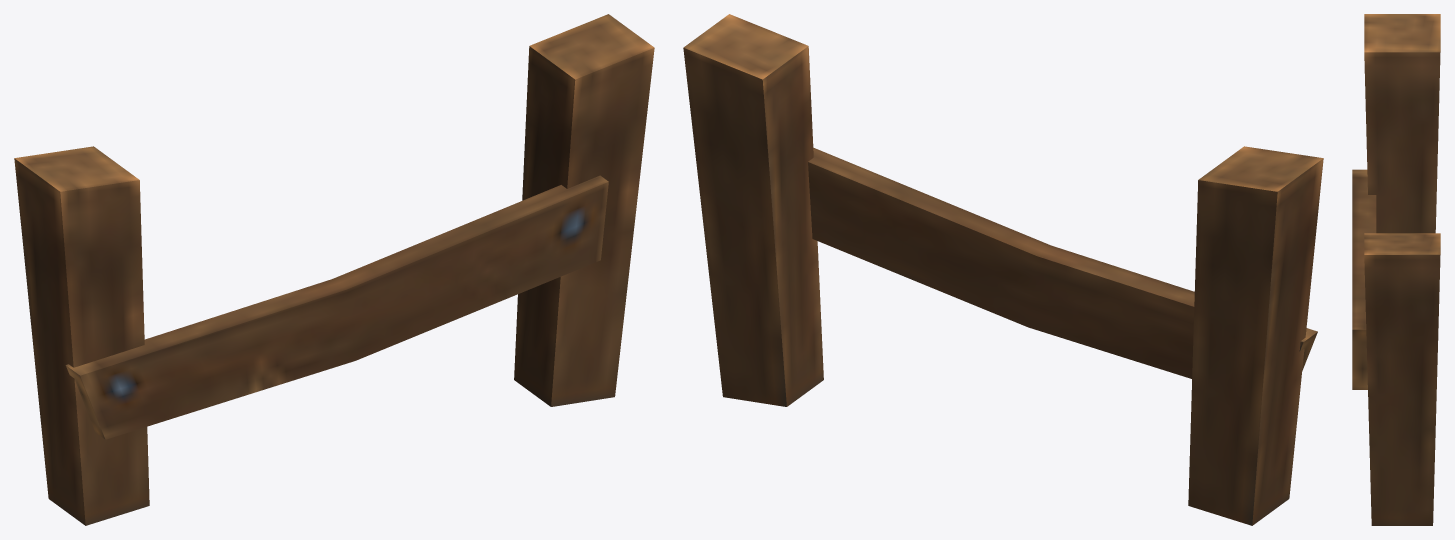
The model's file is fence_11.FBX.
3 renders of one model, left to right at view 1: azimuth 30°, elevation 25°; view 2: azimuth 150°, elevation 25°; view 3: azimuth 270°, elevation 25°, orthographic. The views are drawn at different scales.
Parts seen in each view (by area): view 1: Object002; view 2: Object002; view 3: Object002.
Part boxes in pixels (<box>): Object002: <box>14,14,654,525</box>; Object002: <box>683,14,1323,525</box>; Object002: <box>1352,14,1440,525</box>.
Size of the model in its own units: 38.46 by 5.95 by 21.33.
